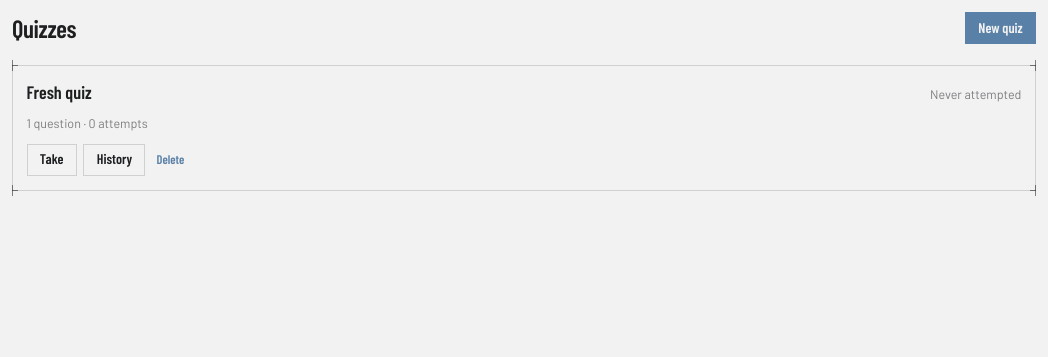
Test: scrolls the tab panel back to the top when the results replace the take view
Click the button "Take": (52, 160) [27, 144, 77, 176]
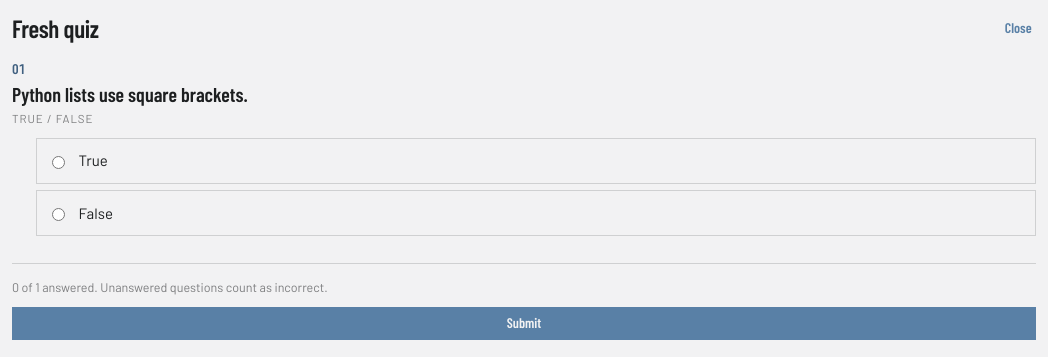
Click the radio button labelled "True": (59, 162) [52, 156, 65, 169]
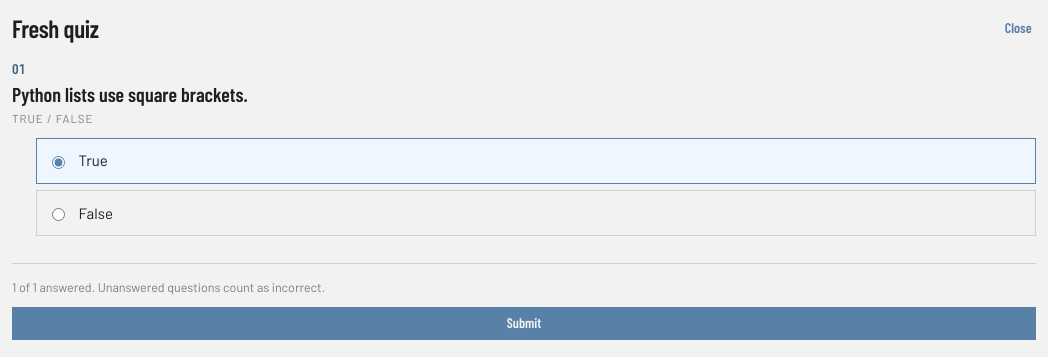
Click the button "Submit": (524, 324) [12, 307, 1036, 340]
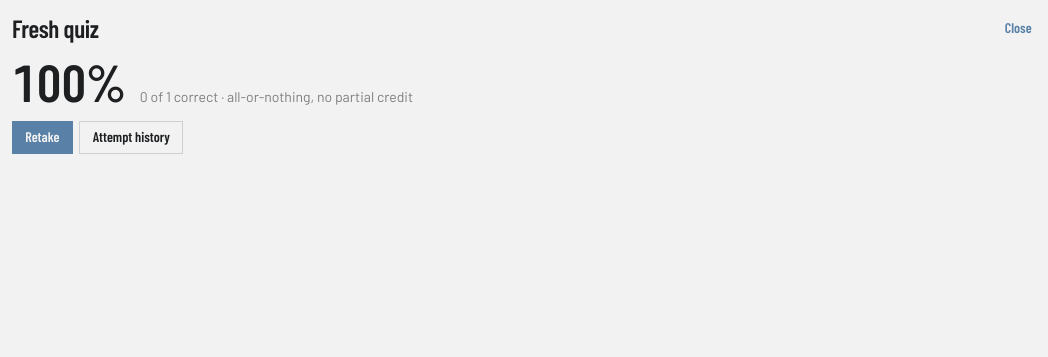
Expected: the text "100%" is shown, [12, 58, 126, 105]
